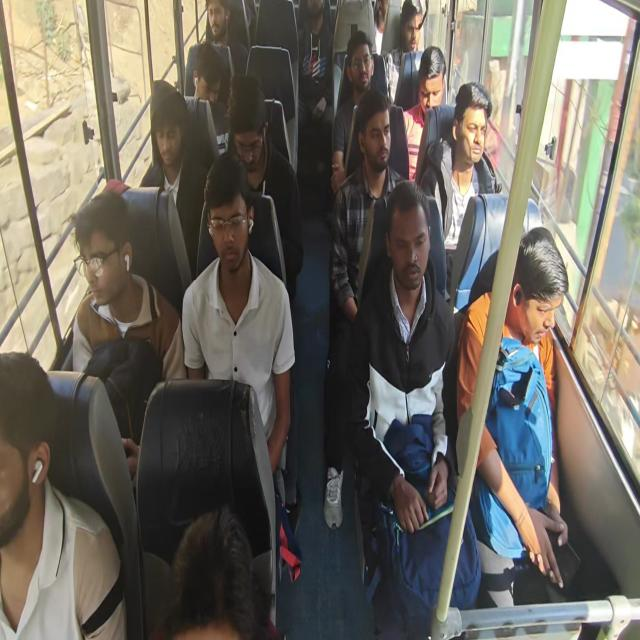person: (165, 480, 250, 640), (0, 348, 48, 550), (506, 221, 570, 354), (386, 192, 444, 300), (72, 209, 136, 301), (208, 180, 258, 272), (229, 80, 269, 170), (149, 80, 184, 178), (456, 85, 492, 168), (417, 50, 444, 116), (362, 106, 389, 168), (194, 50, 220, 110), (199, 0, 230, 37), (350, 32, 371, 86), (400, 5, 423, 48), (301, 0, 326, 23), (373, 0, 393, 25)
